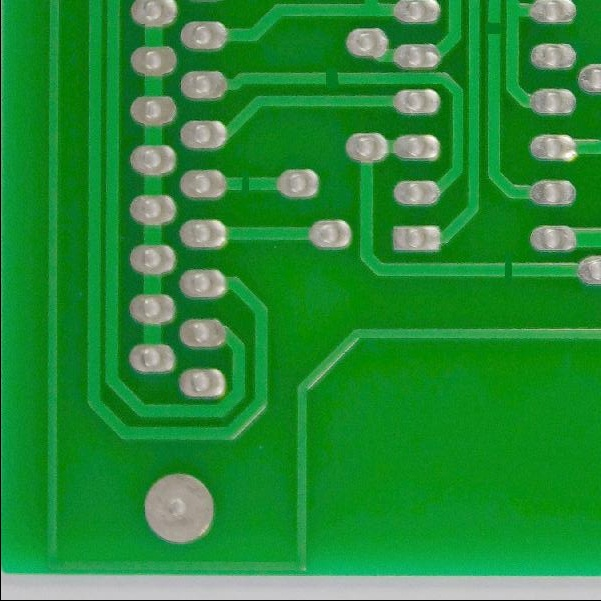open_circuit: (493, 255, 520, 289), (317, 65, 341, 90), (482, 14, 503, 40), (233, 173, 254, 195)
